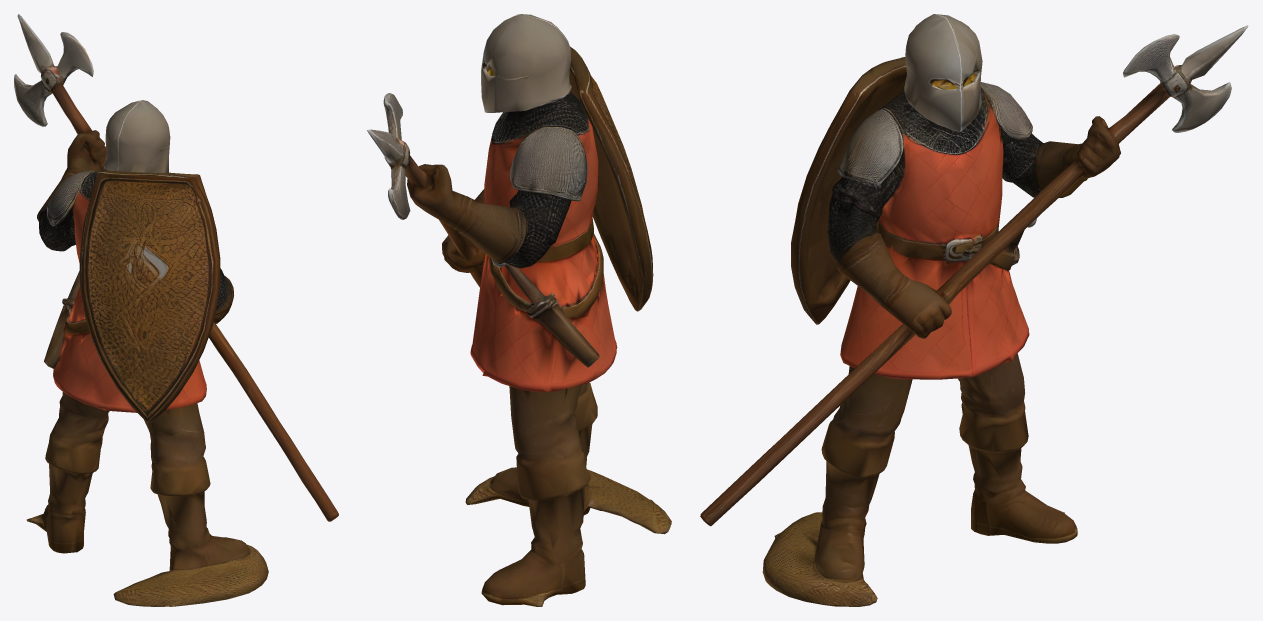
3 renders of one model, left to right at view 1: azimuth 30°, elevation 25°; view 2: azimuth 150°, elevation 25°; view 3: azimuth 270°, elevation 25°, orthographic. The views are drawn at different scales.
Parts seen in each view (by area): view 1: tripo_node_96938030-9f2b-4e59-8e7b-70c0ce77d059; view 2: tripo_node_96938030-9f2b-4e59-8e7b-70c0ce77d059; view 3: tripo_node_96938030-9f2b-4e59-8e7b-70c0ce77d059.
Part boxes in pixels (x1=…): tripo_node_96938030-9f2b-4e59-8e7b-70c0ce77d059: x1=14, y1=14, x2=338, y2=606; tripo_node_96938030-9f2b-4e59-8e7b-70c0ce77d059: x1=367, y1=14, x2=671, y2=606; tripo_node_96938030-9f2b-4e59-8e7b-70c0ce77d059: x1=700, y1=14, x2=1248, y2=606.
Size of the model in its own units: 0.4201 by 0.9994 by 0.9131.
1 material, 1 textured.
